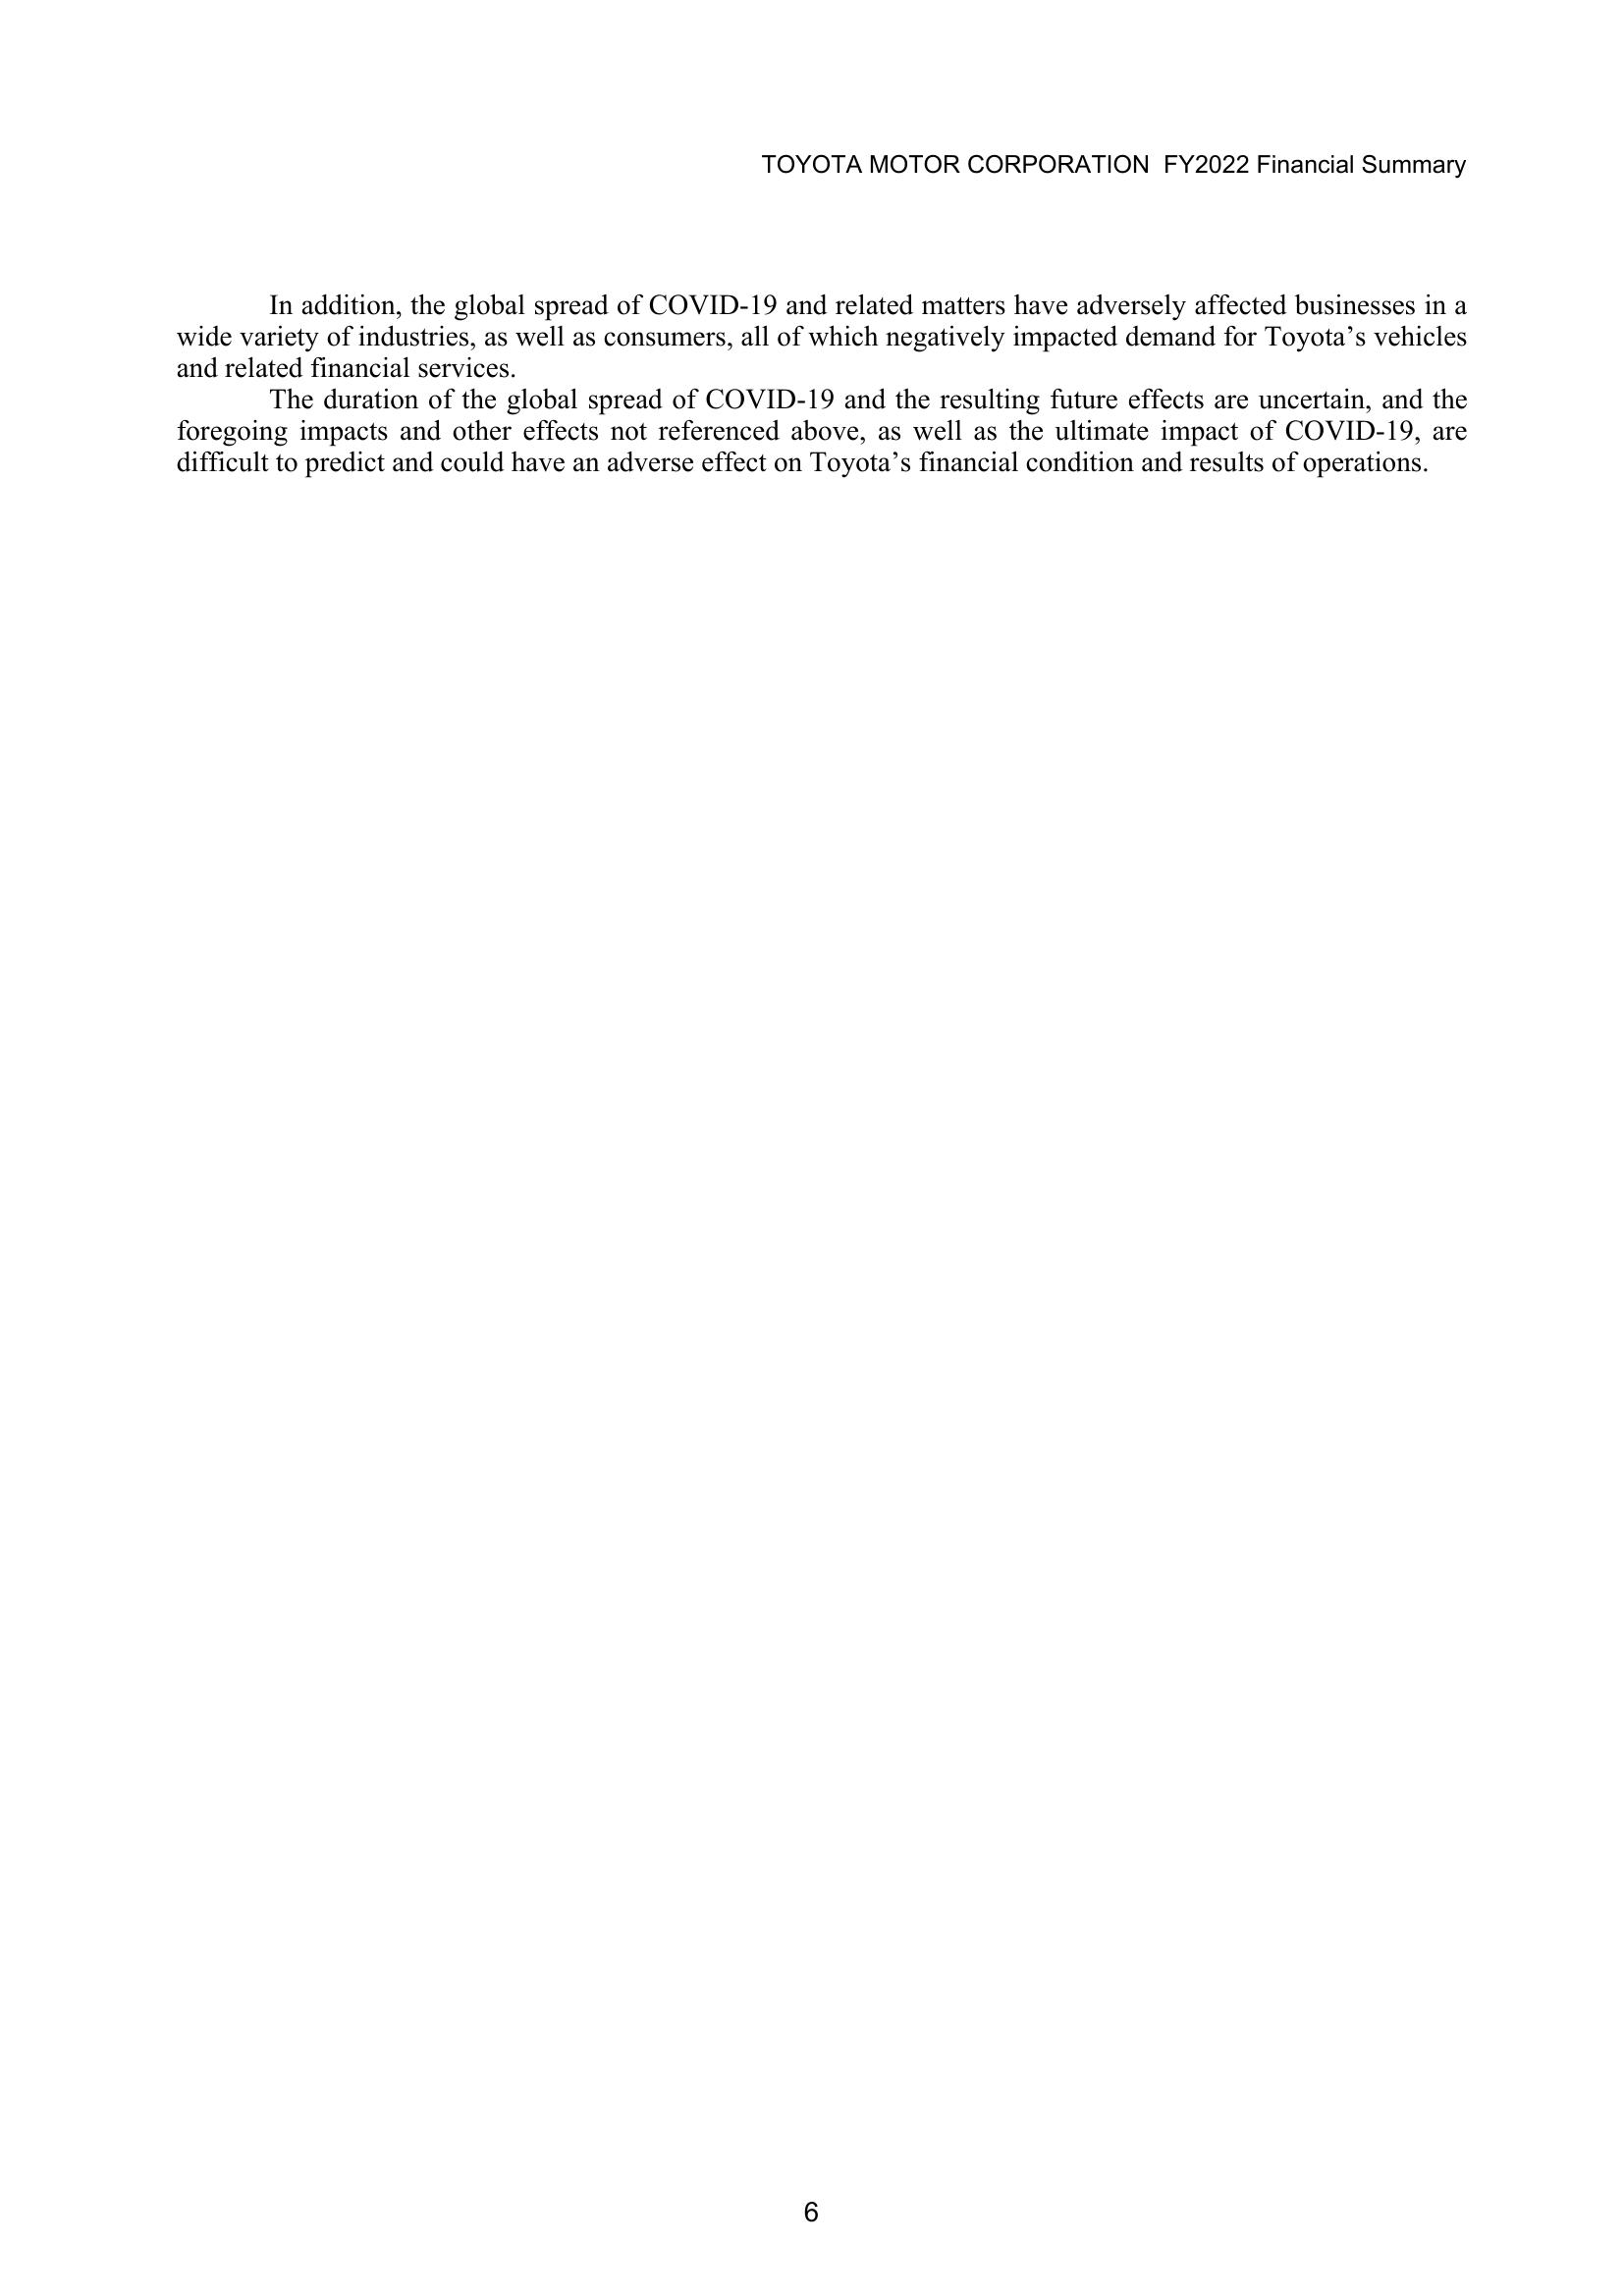Footer: (0, 2157, 1624, 2296)
Header: (0, 0, 1624, 211)
